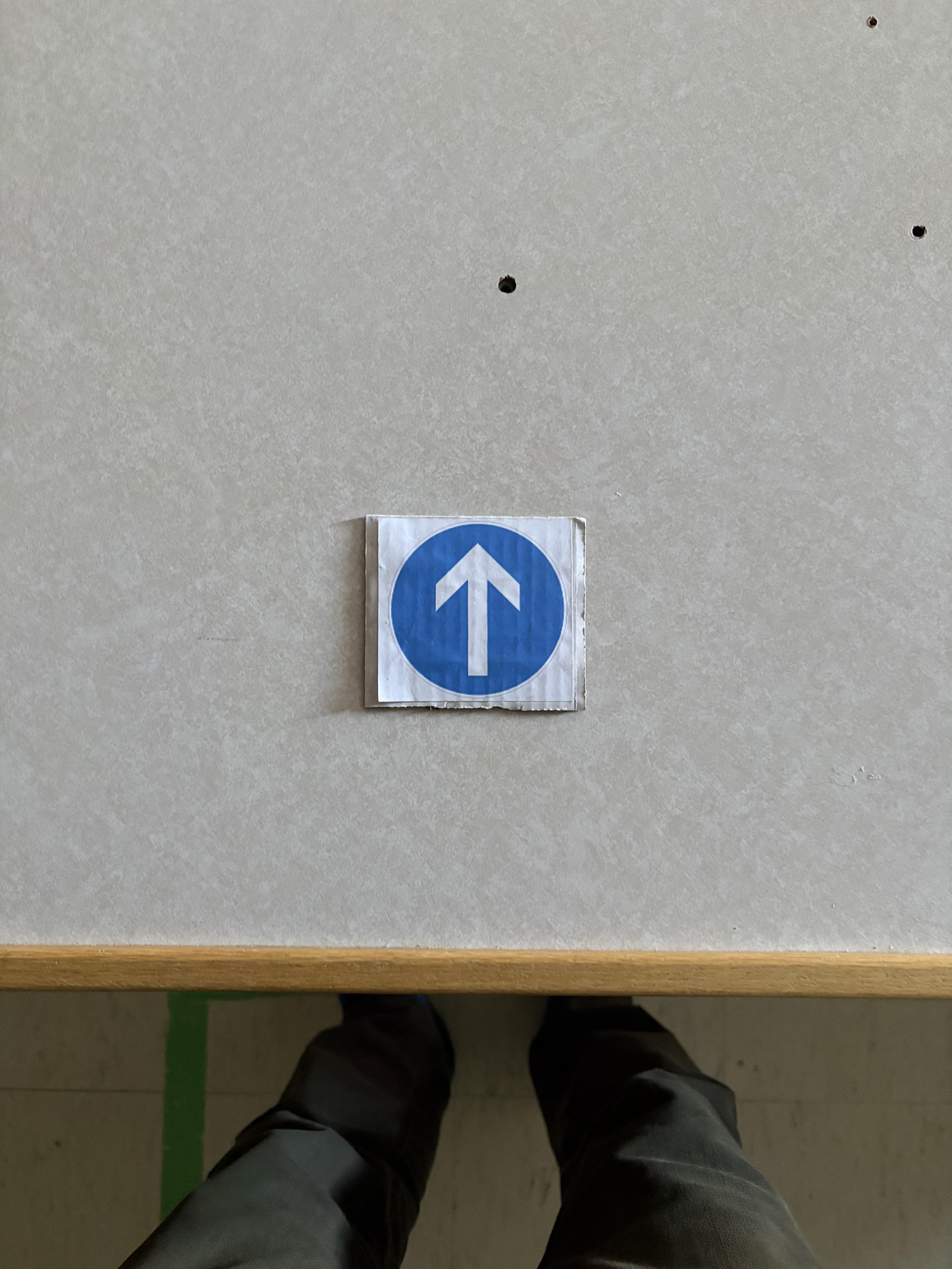Proceed Forward: (367, 513, 590, 708)
